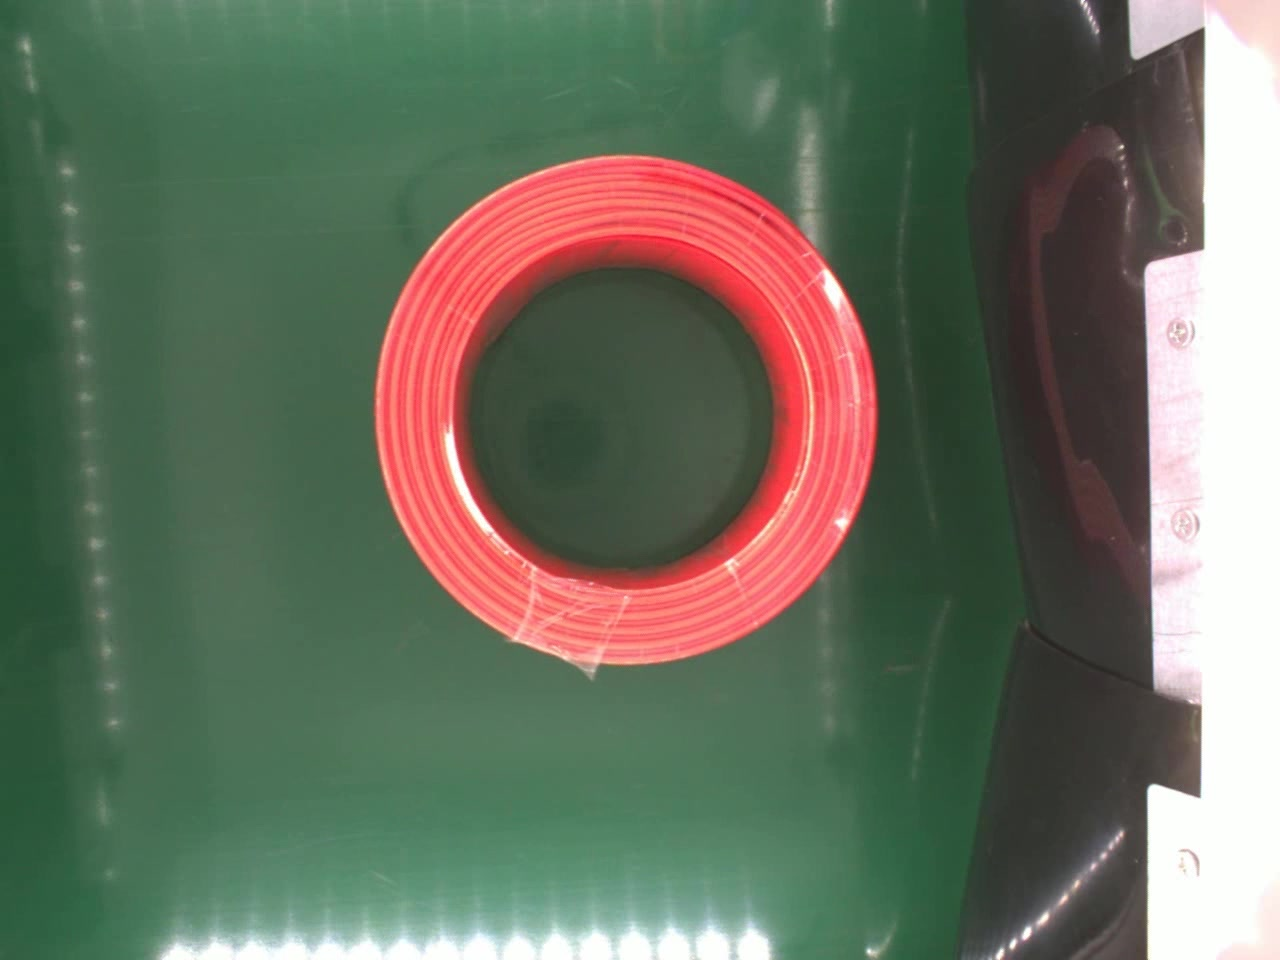red: (369, 150, 881, 672)
